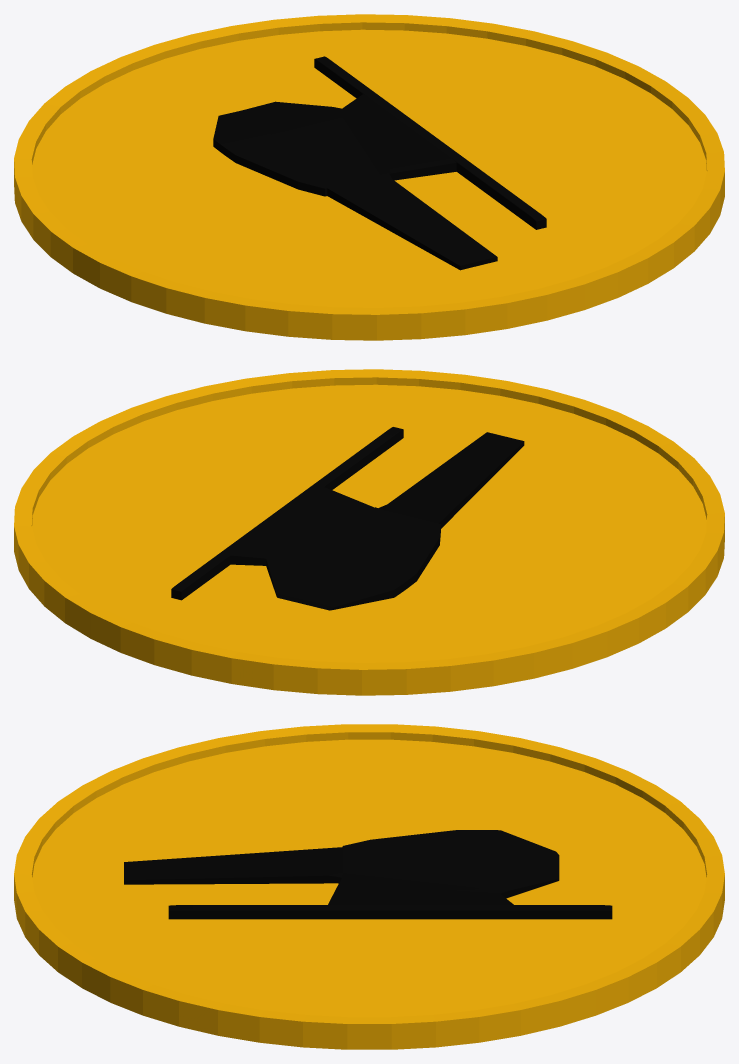
File: coin.fbx
3 views of the same model, one above another, from view 1: azimuth 30°, elevation 25°; view 2: azimuth 150°, elevation 25°; view 3: azimuth 270°, elevation 25° (orthographic).
Parts seen in each view (by area): view 1: Circle, Cube; view 2: Circle, Cube; view 3: Circle, Cube.
Boxes of the visible parts, x1,y1,x2,y2 form: Circle: [14, 14, 724, 340]; Cube: [213, 56, 546, 270]; Circle: [14, 369, 724, 695]; Cube: [171, 427, 524, 610]; Circle: [14, 724, 724, 1049]; Cube: [124, 830, 612, 919].
Bounding box in the file's own units: 998 × 42.54 × 1000.
